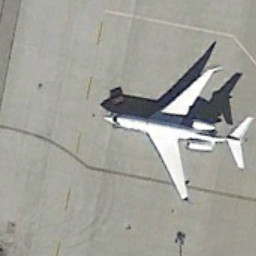Airplane: (101, 64, 256, 204)
